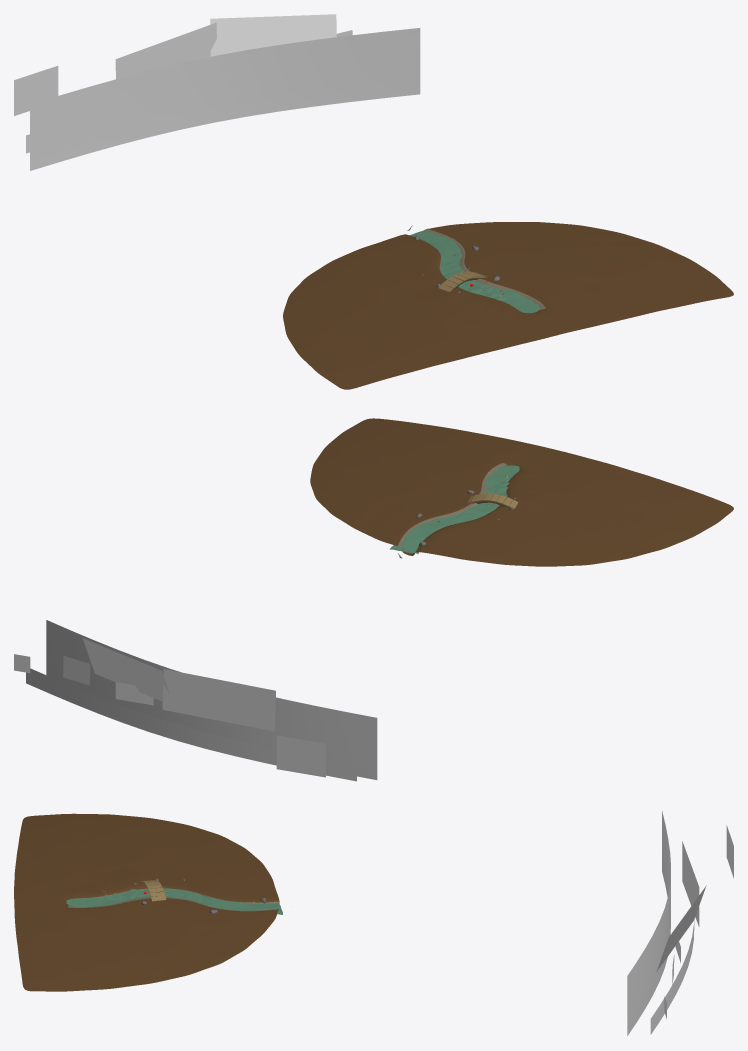
Rendered from better-river.glb.
3 renders of one model, top to bottom at view 1: azimuth 30°, elevation 25°; view 2: azimuth 150°, elevation 25°; view 3: azimuth 270°, elevation 25°, orthographic. The views are drawn at different scales.
Parts seen in each view (by area): view 1: Chao, GrassHills, Nuvem-2, Nuvem-2.001, Chao.001, Nuvem-1, Plane.001; view 2: Chao, GrassHills, Hills, Nuvem-2.001, Nuvem-2, Nuvem-1, Chao.001, Plane.001, Nuvem-4; view 3: Chao, GrassHills, Chao.001, Hills, Nuvem-2, Nuvem-2.001, Plane.001.
Part boxes in pixels (x1,y1,x2,y2): Chao: [283, 222, 733, 389]; GrassHills: [30, 28, 420, 170]; Nuvem-2: [210, 14, 336, 56]; Nuvem-2.001: [115, 22, 216, 79]; Chao.001: [410, 231, 540, 312]; Nuvem-1: [14, 66, 58, 115]; Plane.001: [414, 228, 537, 313]; Chao: [310, 418, 733, 566]; GrassHills: [46, 620, 377, 779]; Hills: [26, 668, 356, 781]; Nuvem-2.001: [162, 669, 275, 731]; Nuvem-2: [82, 638, 169, 701]; Nuvem-1: [276, 735, 325, 777]; Chao.001: [398, 465, 519, 554]; Plane.001: [390, 465, 519, 553]; Nuvem-4: [63, 656, 90, 685]; Chao: [14, 813, 279, 991]; GrassHills: [627, 811, 670, 1035]; Chao.001: [68, 888, 278, 910]; Hills: [650, 920, 694, 1034]; Nuvem-2: [656, 885, 706, 971]; Nuvem-2.001: [682, 841, 699, 926]; Plane.001: [66, 888, 282, 914].
Size of the model in its own units: 34.92 by 6.7 by 56.57.
